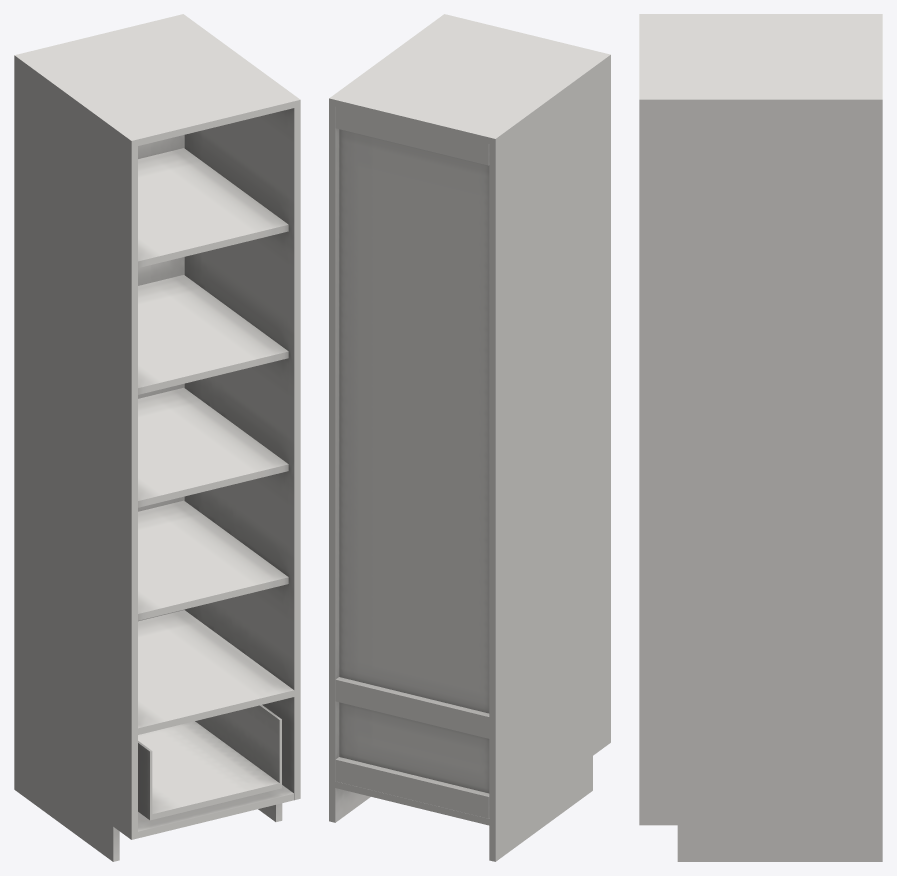
The model's file is tall-1-door-1-drawer-doors-off.glb.
The picture shows the model from 3 angles, left to right: view 1: azimuth 30°, elevation 25°; view 2: azimuth 150°, elevation 25°; view 3: azimuth 270°, elevation 25°; orthographic projection. The views are drawn at different scales.
Parts seen in each view (by area): view 1: part_0, part_4; view 2: part_0; view 3: part_0.
Boxes of the visible parts, bbox=[...] form: part_0: bbox=[14, 14, 300, 861]; part_4: bbox=[138, 705, 281, 820]; part_0: bbox=[329, 14, 610, 861]; part_0: bbox=[639, 14, 882, 861].
Bounding box in the file's own units: 0.508 × 2.11 × 0.6097.
Materials: 2 (1 with a texture image).
